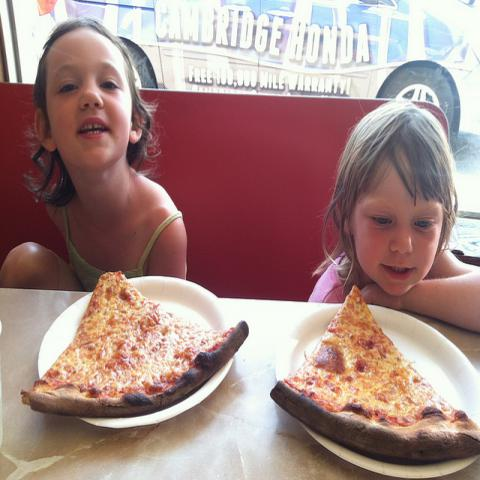bus: (0, 2, 479, 142)
